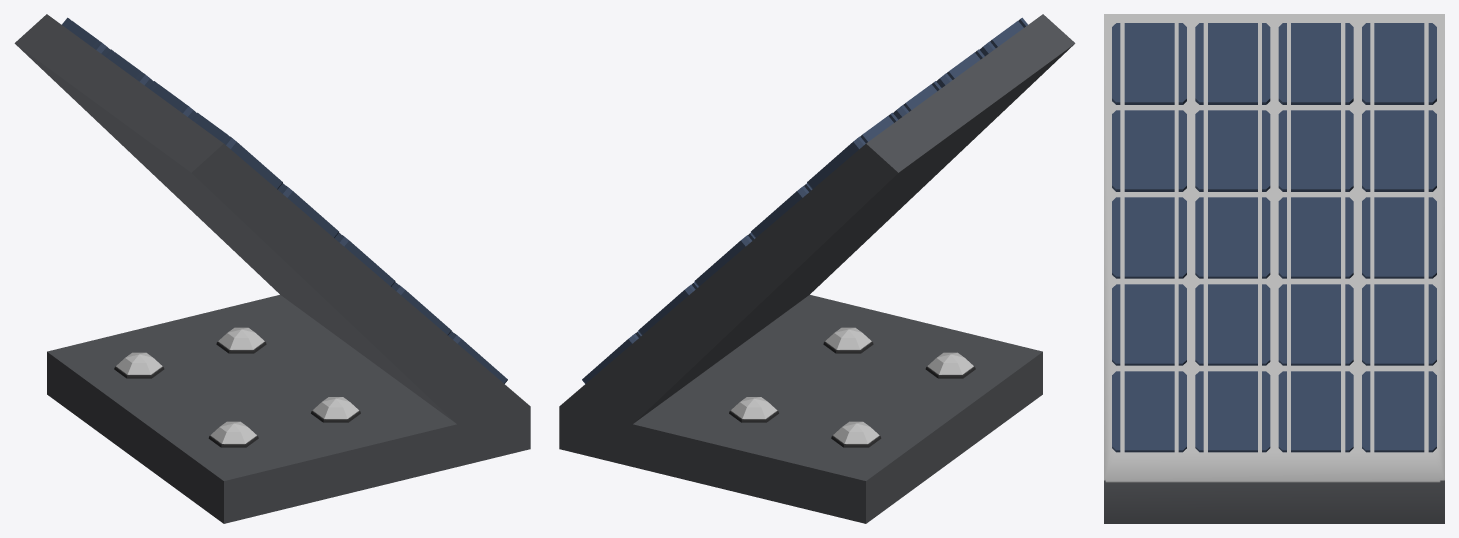
The model's file is Solar Battery 2.obj.
The picture shows the model from 3 angles, left to right: view 1: azimuth 30°, elevation 25°; view 2: azimuth 150°, elevation 25°; view 3: azimuth 270°, elevation 25°; orthographic projection. The views are drawn at different scales.
Parts seen in each view (by area): view 1: Solar_battery1; view 2: Solar_battery1; view 3: Solar_battery1.
Boxes of the visible parts, x1,y1,x2,y2 form: Solar_battery1: [14, 14, 530, 523]; Solar_battery1: [559, 14, 1075, 523]; Solar_battery1: [1104, 14, 1444, 523].
Size of the model in its own units: 597 by 640 by 540.
Materials: 1 (1 with a texture image).
